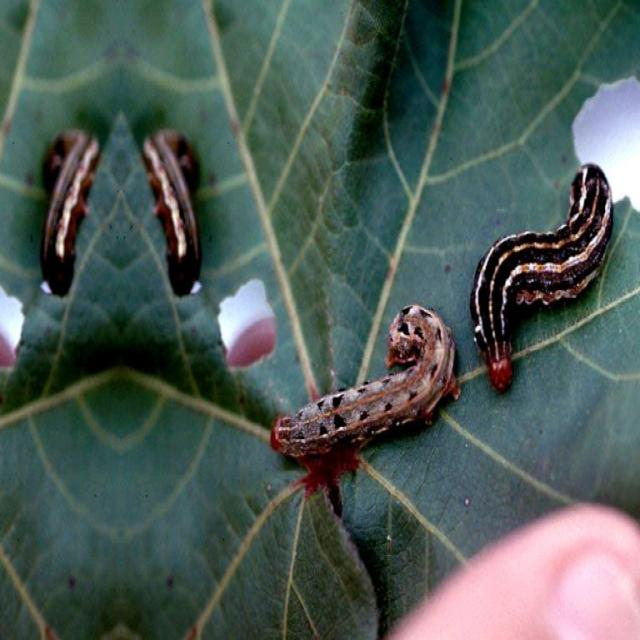Armyworm: (454, 153, 627, 419), (270, 304, 467, 510), (121, 107, 216, 279), (26, 101, 109, 282)
Armyworm_damage: (204, 265, 289, 379)
